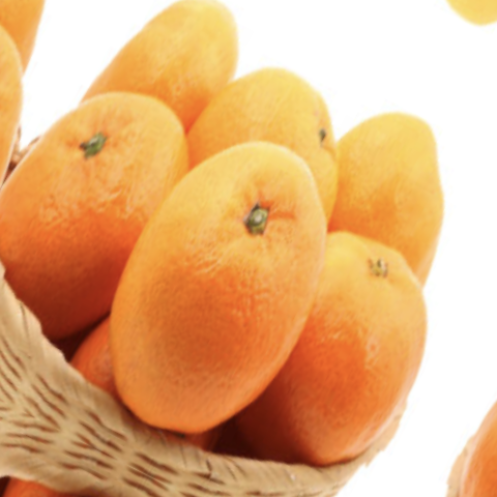orange: (61, 95, 388, 471), (198, 187, 497, 497), (0, 36, 229, 391)
